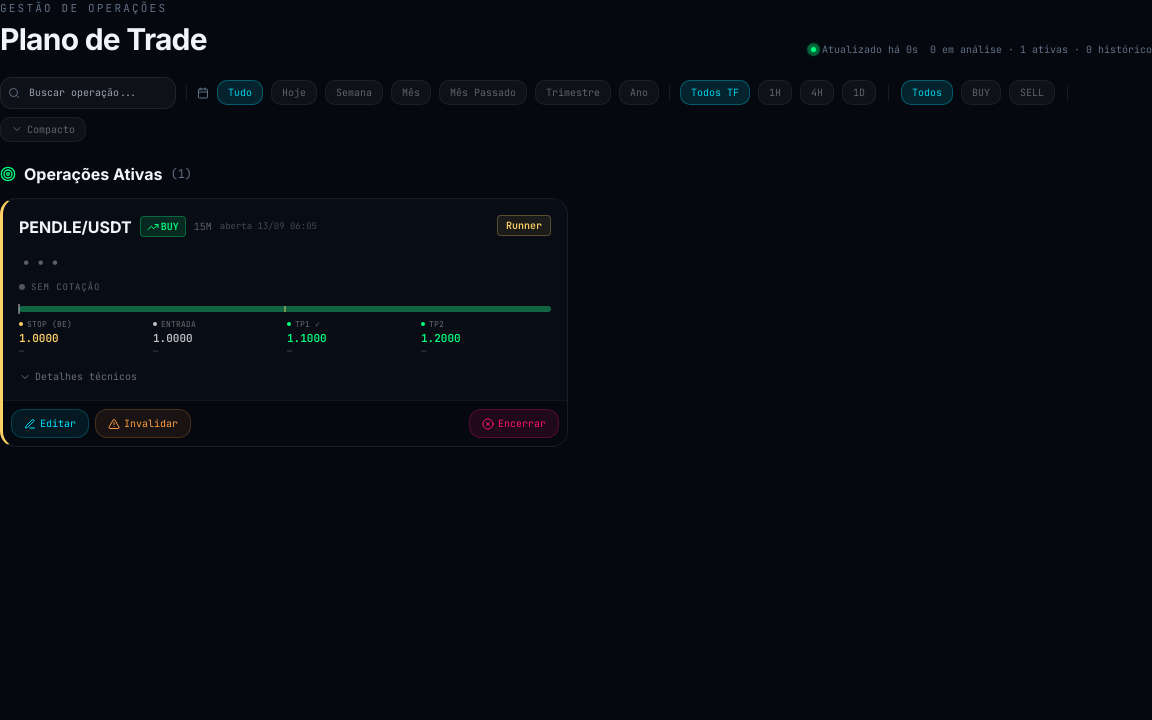
it: Trades — Invalidar/Encerrar usam AlertDialog em vez de confirm() nativo (Round 2 pós-Raio-X) › REGRESSÃO: abrir Invalidar, cancelar, abrir Encerrar mostra o texto de Encerrar (sem estado obsoleto)
Click the button "Invalidar" at coordinates (143, 424), box [95,409,191,438]
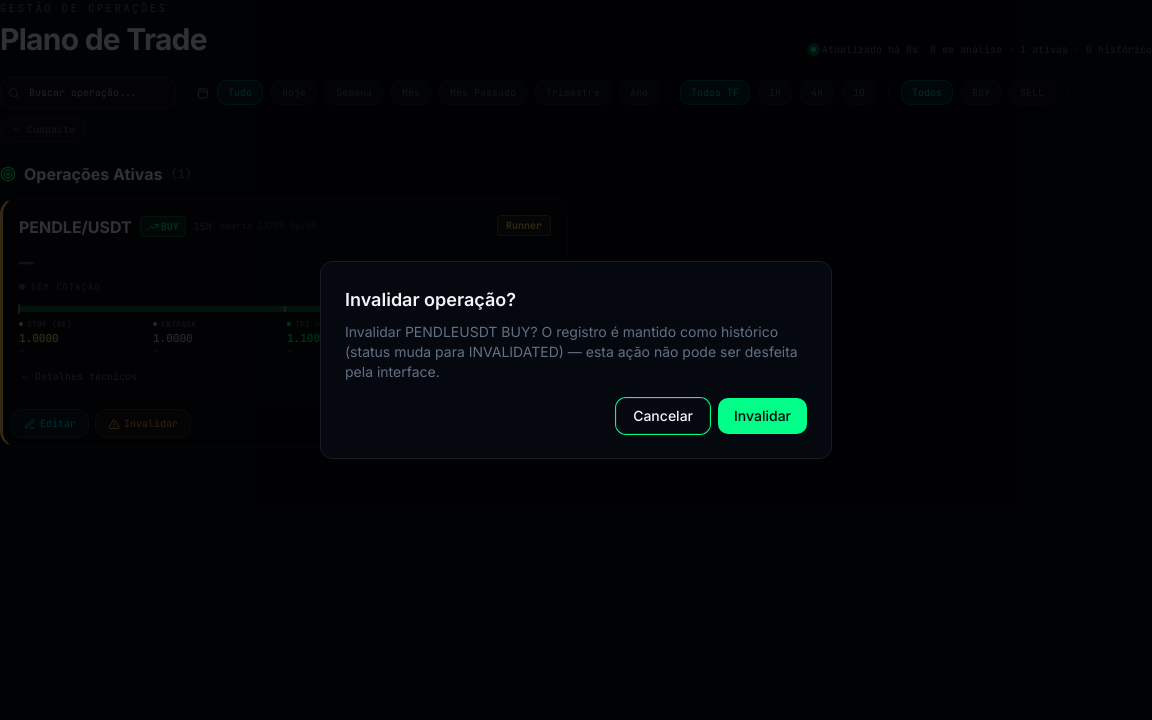
Check: the text "INVALIDATED" is shown, box [345,323,798,380]
Click the button "Cancelar" at coordinates (663, 416), box [616,398,710,434]
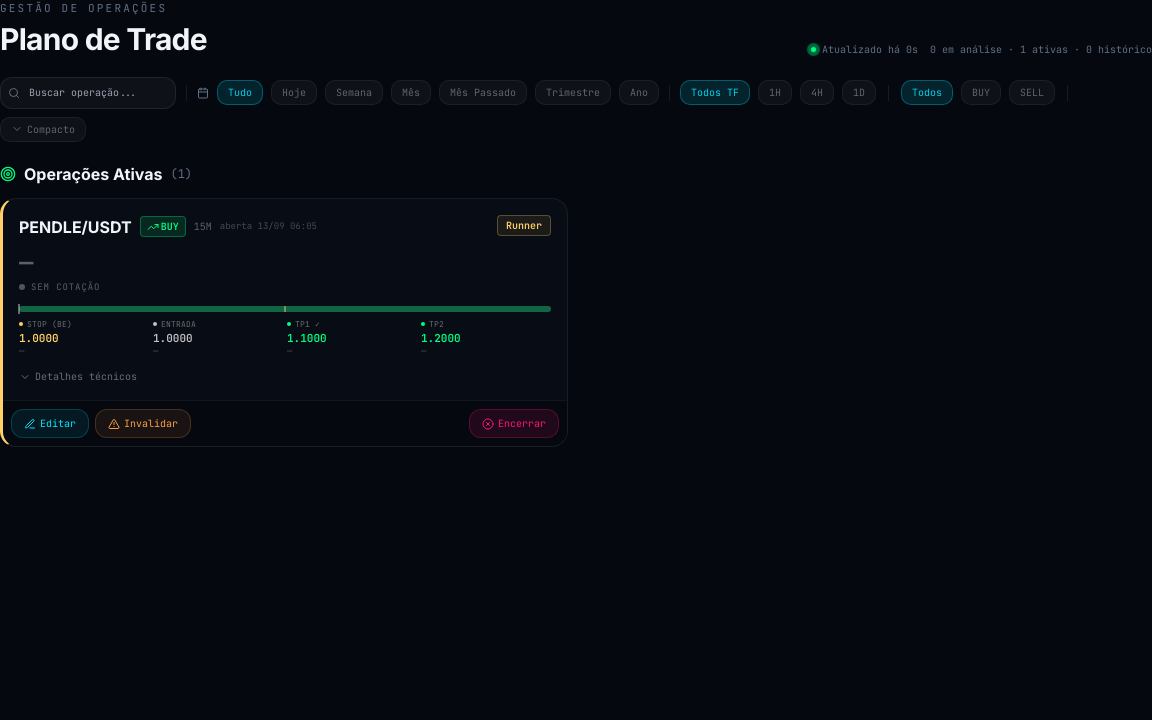
Check: the dialog is gone
Click the button "Encerrar" at coordinates (514, 424), box [469,409,559,438]
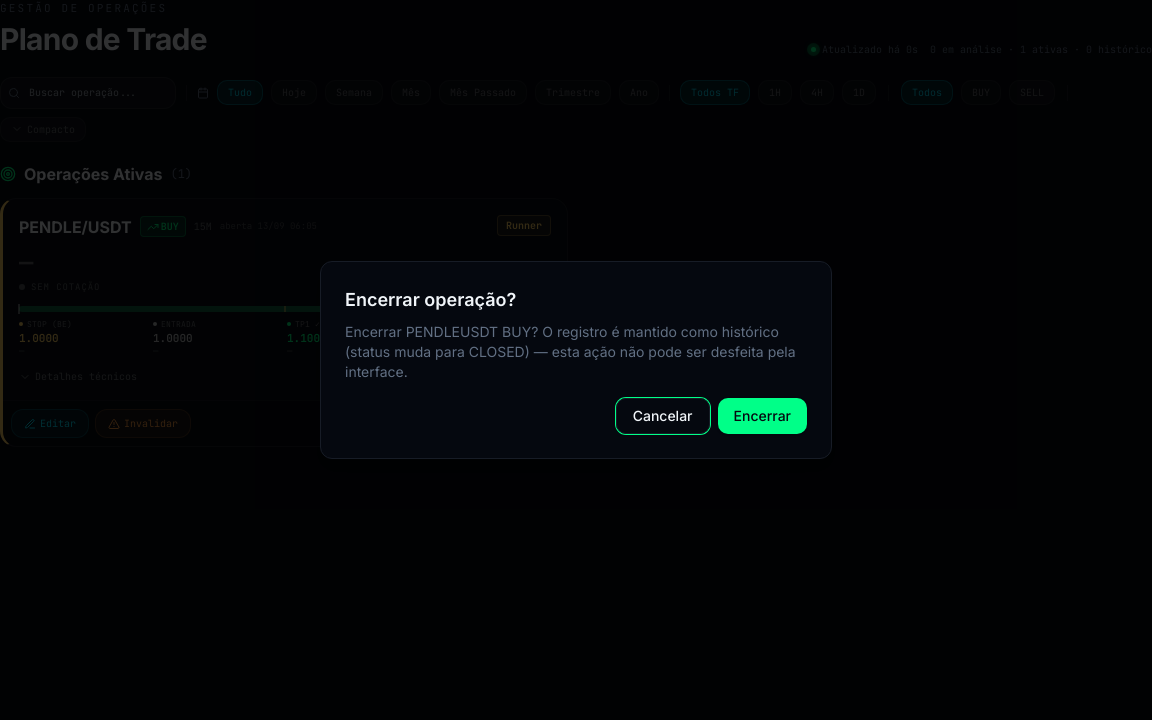
Check: the text "CLOSED" is shown, box [345,323,796,380]
